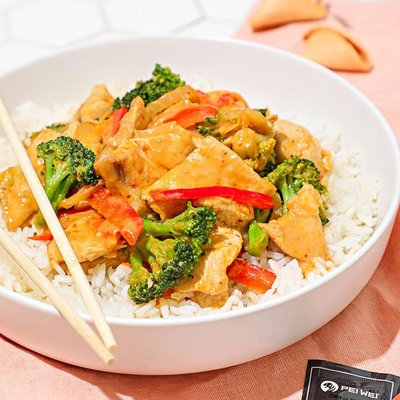curry: (127, 202, 217, 303), (36, 136, 97, 210), (265, 157, 331, 223), (113, 63, 185, 111), (266, 157, 328, 204)
sushi: (13, 22, 400, 379)
